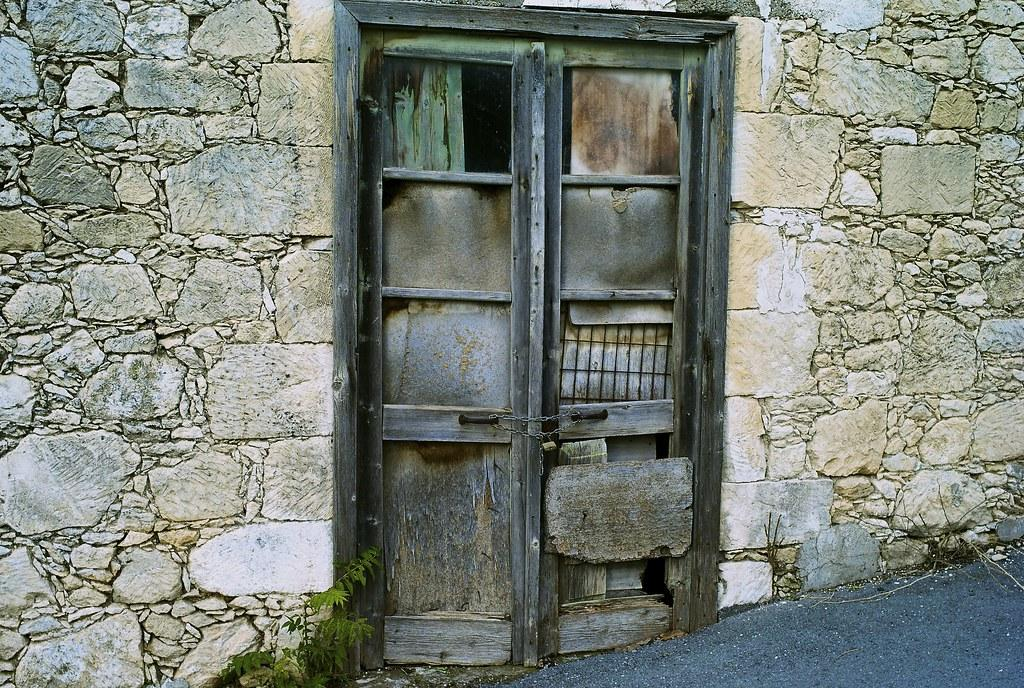door: (341, 6, 735, 672)
